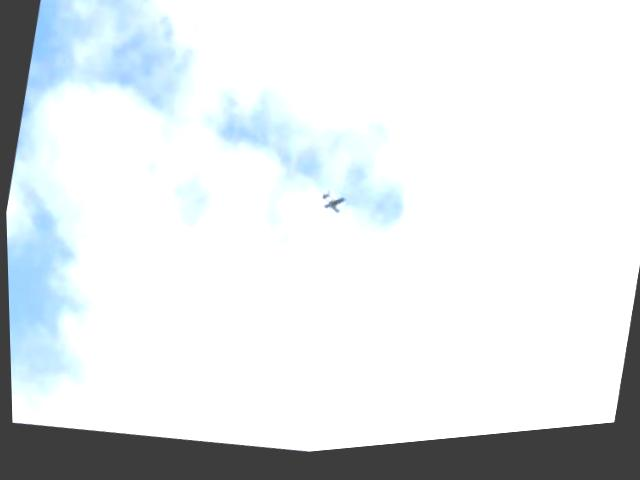uav: (317, 191, 347, 225)
